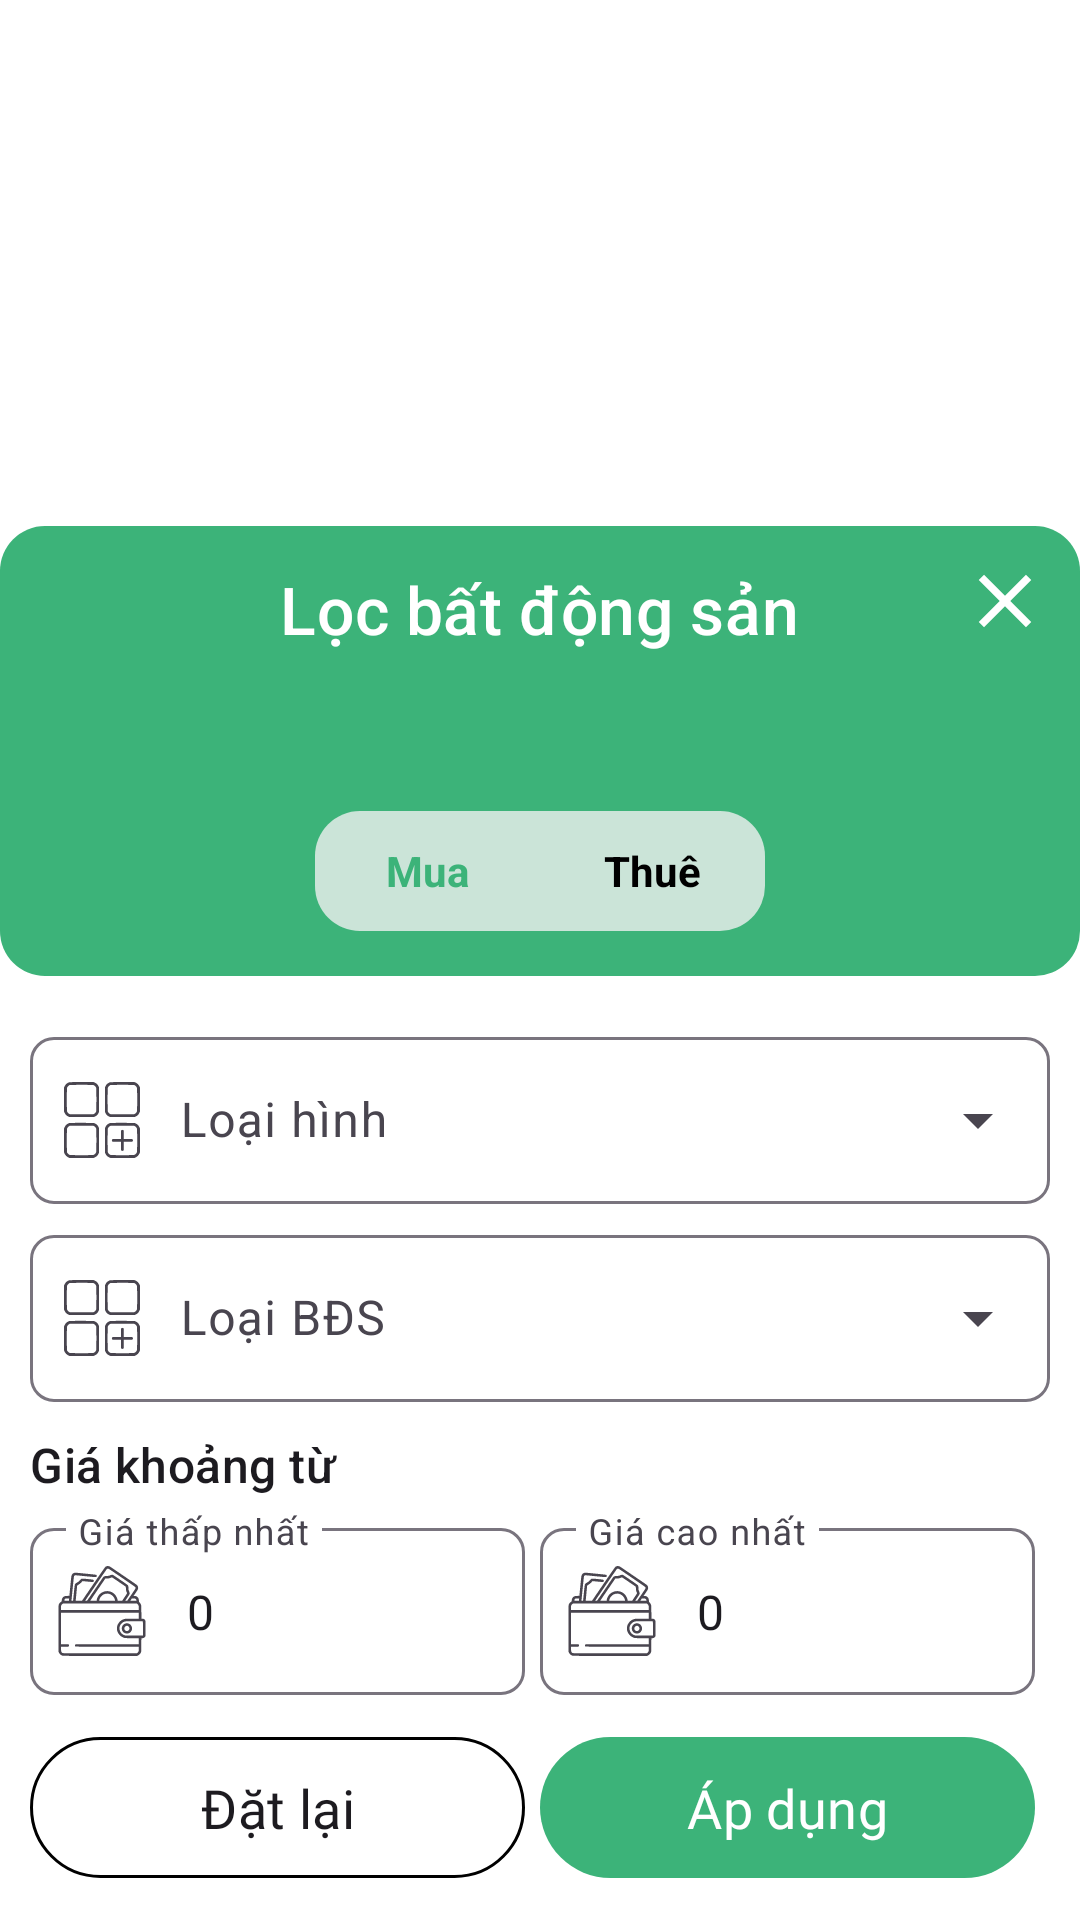

Icon bounding boxes for this 1080px×1920px phone screenshot, format (x1, y1, x2, y2):
close: (979, 575, 1031, 627)
